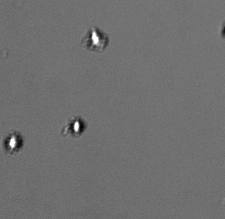Living Cell: (82, 25, 110, 51), (3, 129, 25, 154), (66, 115, 88, 137)
